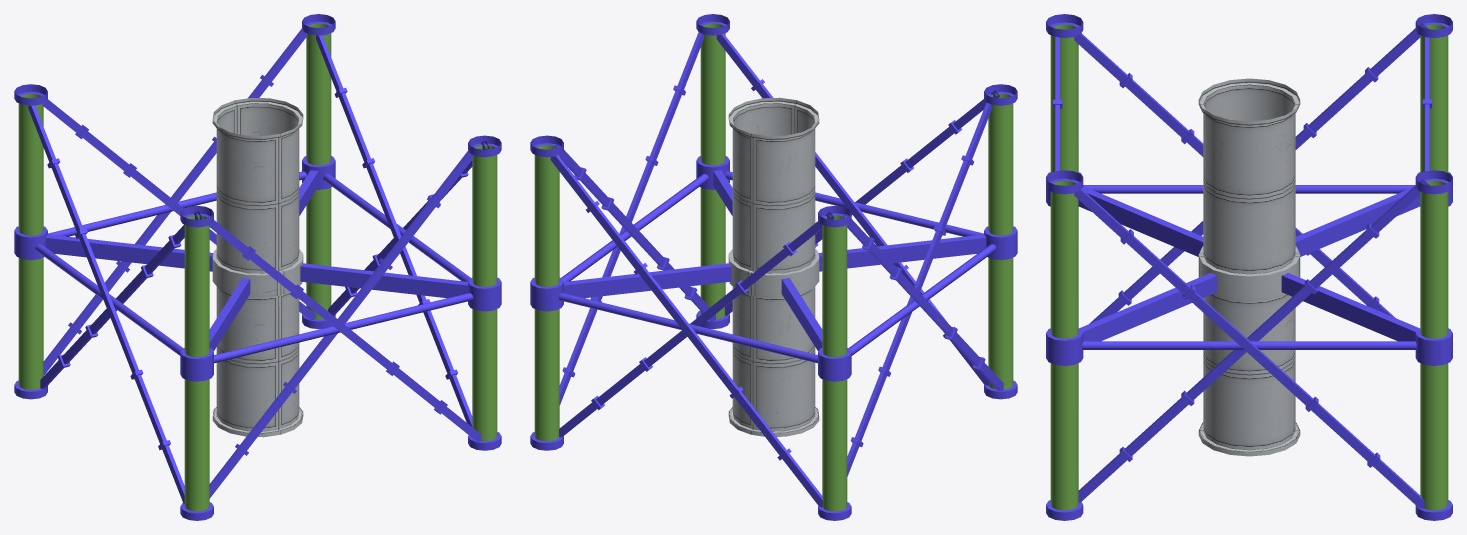
The model's file is RadioTower_01.FBX.
3 views of the same model, side by side, from view 1: azimuth 30°, elevation 25°; view 2: azimuth 150°, elevation 25°; view 3: azimuth 270°, elevation 25° (orthographic). The views are drawn at different scales.
Parts seen in each view (by area): view 1: RadioTower_01; view 2: RadioTower_01; view 3: RadioTower_01.
Part boxes in pixels (box(x1,y1,x2,y2)): RadioTower_01: box(14, 14, 501, 520); RadioTower_01: box(530, 14, 1017, 520); RadioTower_01: box(1046, 14, 1452, 520).
Bounding box in the file's own units: 8.81 × 8 × 8.81.
3 materials, 1 textured.
